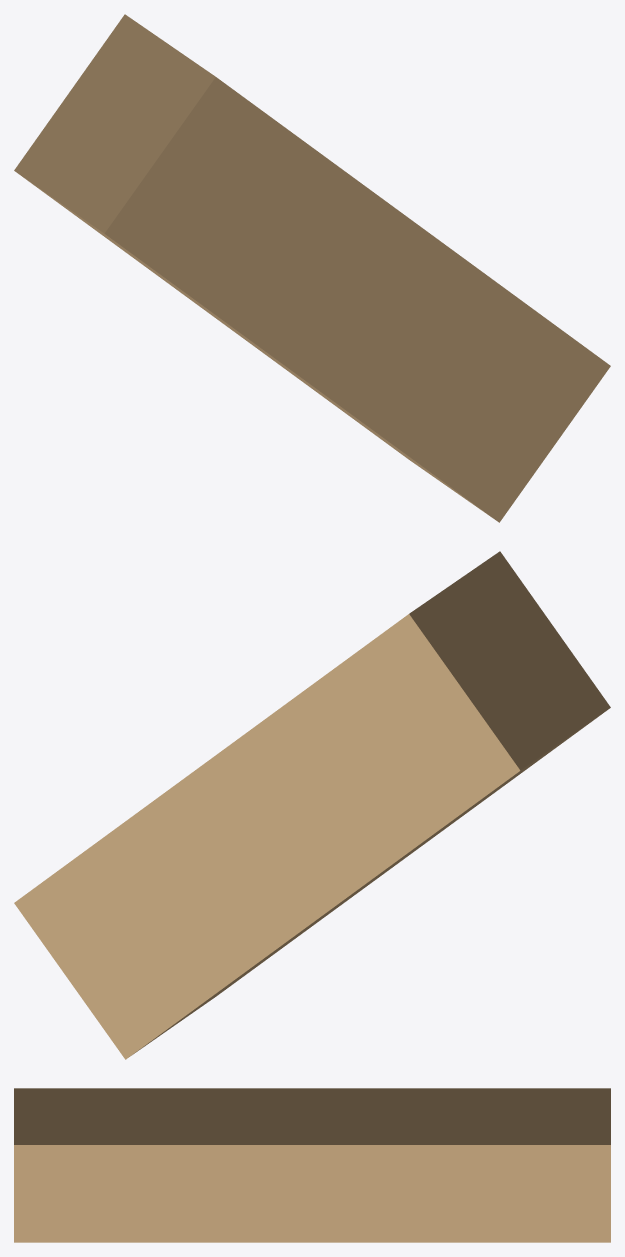
3 renders of one model, top to bottom at view 1: azimuth 30°, elevation 25°; view 2: azimuth 150°, elevation 25°; view 3: azimuth 270°, elevation 25°, orthographic. The views are drawn at different scales.
Parts seen in each view (by area): view 1: 0_2_3_2_2_0_2_2_2_3_1; view 2: 0_2_3_2_2_0_2_2_2_3_1; view 3: 0_2_3_2_2_0_2_2_2_3_1.
Boxes of the visible parts, left/top/right/bottom form: 0_2_3_2_2_0_2_2_2_3_1: left=14, top=14, right=610, bottom=522; 0_2_3_2_2_0_2_2_2_3_1: left=14, top=551, right=610, bottom=1059; 0_2_3_2_2_0_2_2_2_3_1: left=14, top=1088, right=610, bottom=1242.
Size of the model in its own units: 7.08 by 7.19 by 24.
